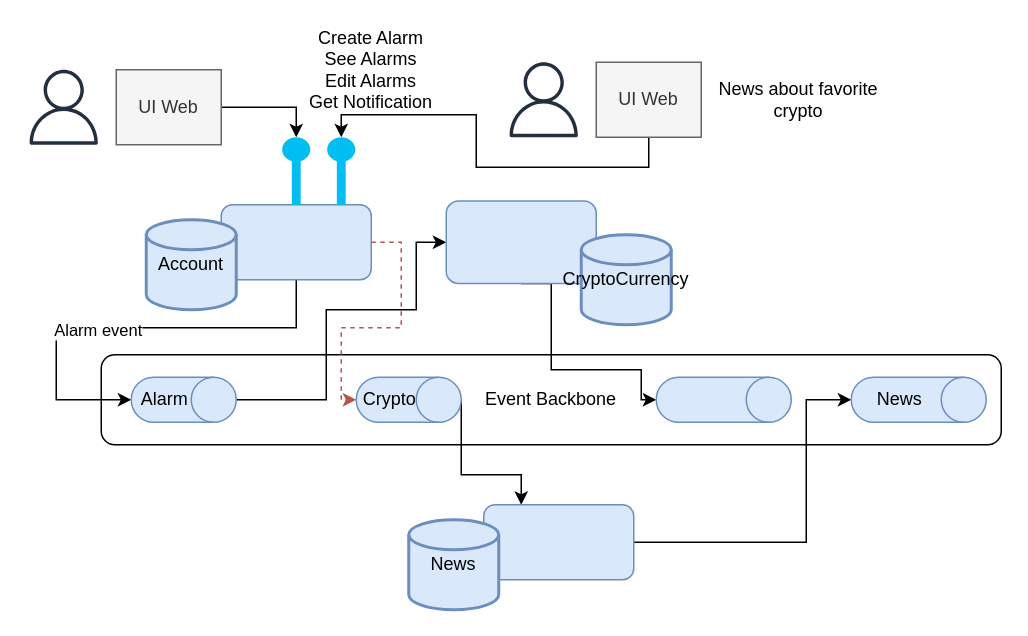
This 1028x636 diagram has some shape labels left out. The shapes that lost their labels are listed below. From the top down, each one's centre as x and y in pixels, then its label:
At [295,241]: "Account MS".
At [520,242]: "Crypto Historic MS".
At [723,399]: "Confirmation".
At [558,541]: "News MS".
